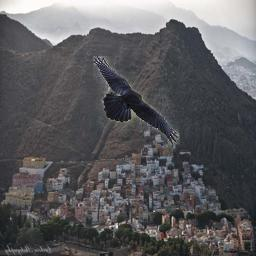Crow: (93, 56, 180, 145)
